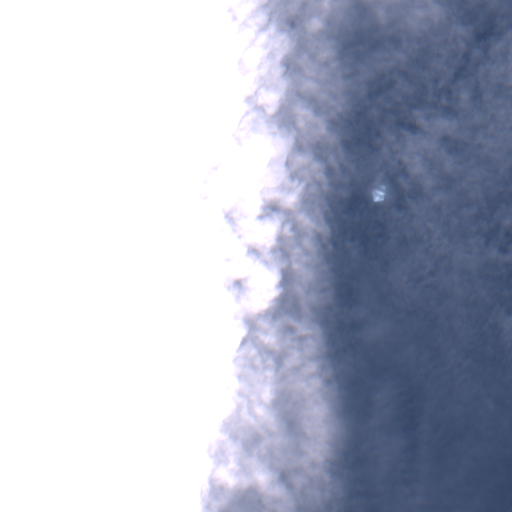Iceberg: (372, 185, 385, 201)
